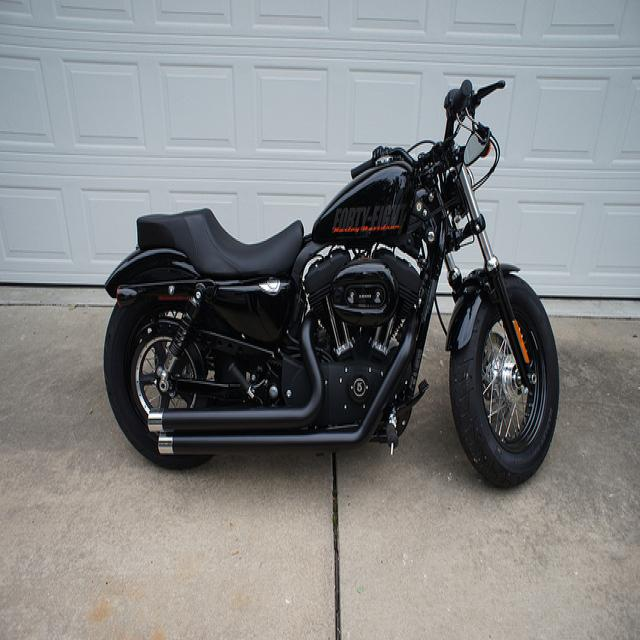motor: (96, 70, 563, 489)
